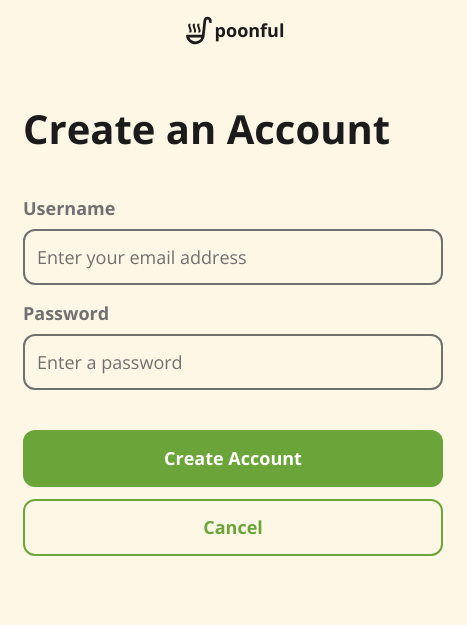
rejects invalid signup inputs without sending a request
Type "invalid" into the field labelled "Username" at (233, 257), box [23,229,443,285]
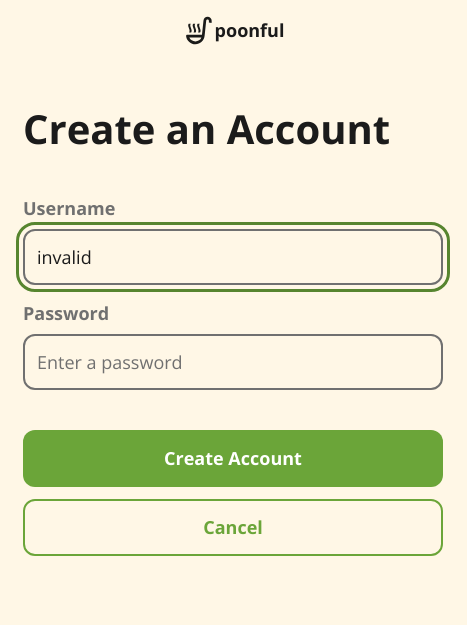
Type "short" into the password field labelled "Password" at (233, 362), box [23,334,443,390]
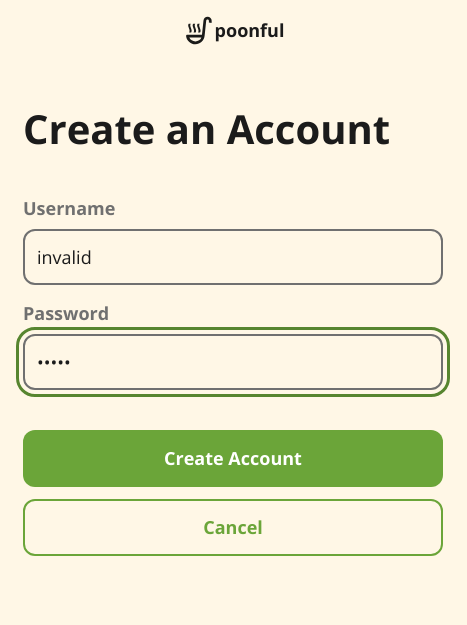
Click the button "Create Account" at (233, 458), box [23,430,443,487]
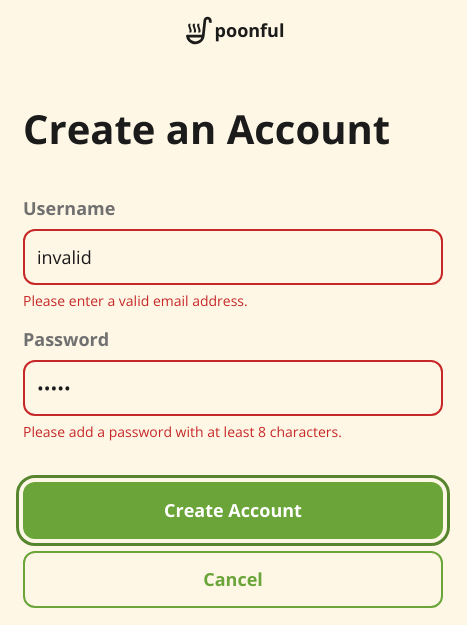
Result: the text "Please enter a valid email address." is shown at [23,291,248,310]
Result: the text "Please add a password with at least 8 characters." is shown at [23,422,342,441]
